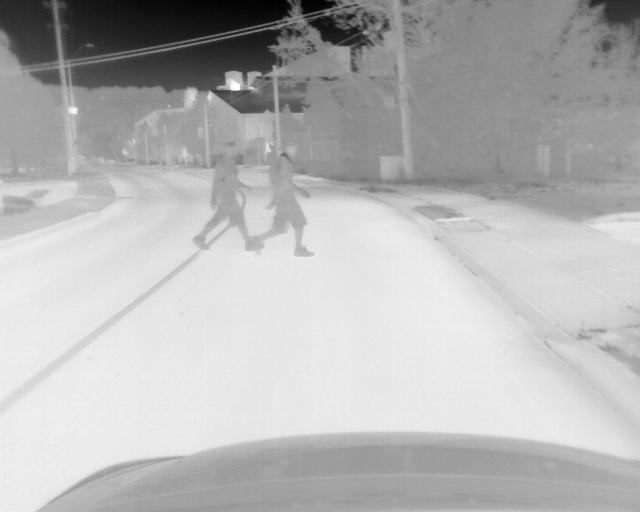people: (192, 139, 265, 254), (252, 141, 313, 258)
